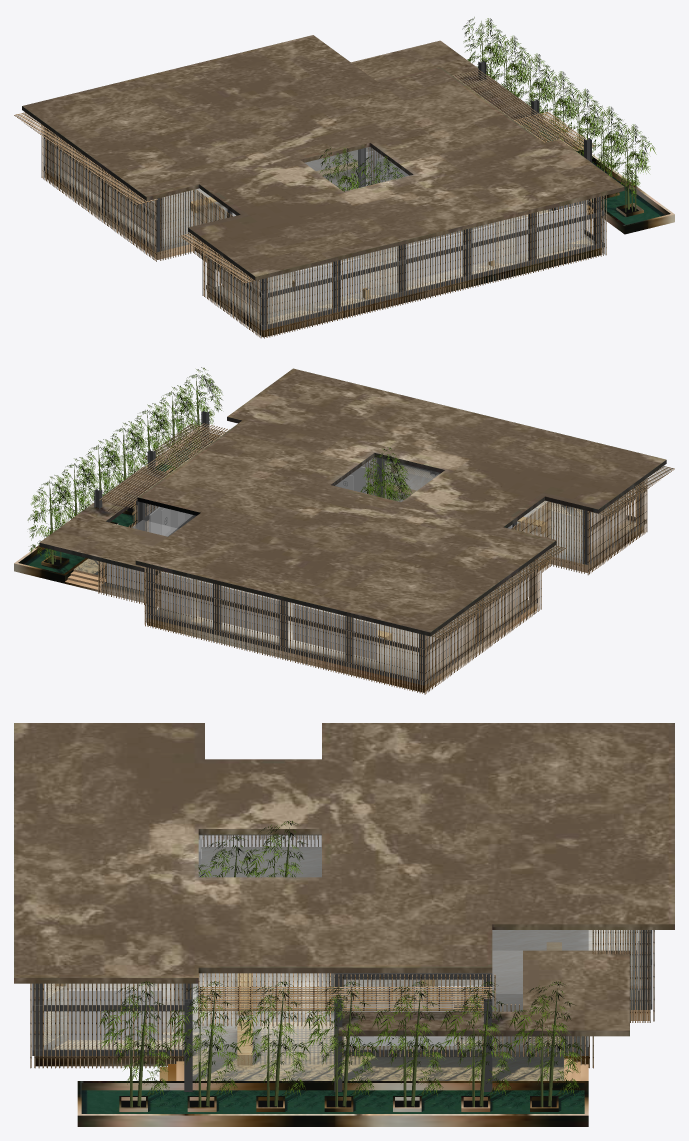
3 renders of one model, top to bottom at view 1: azimuth 30°, elevation 25°; view 2: azimuth 150°, elevation 25°; view 3: azimuth 270°, elevation 25°, orthographic. The views are drawn at different scales.
Parts seen in each view (by area): view 1: G-Object.002, C-组件#1, 地板, 墙.004, 横梁, 地板.001, G-Object.017, G-Object.040, G-Object.038, G-Object.001, G-Object.028, G-Object.034 (+5 smaller); view 2: G-Object.002, C-组件#1, 地板, 墙.004, 横梁, 地板.001, G-Object.030, G-Object.017, G-Object.034, G-Object.040, G-Object.038, G-Object.032 (+5 smaller); view 3: G-Object.002, 地板, C-组件#1, G-Object.017, G-Object.001, 墙.004, 地板.001, 横梁, G-Object.032, G-Object.040, G-Object.034, G-Object.028 (+13 smaller).
Part boxes in pixels (bbox=[...]): G-Object.002: bbox=[22, 35, 624, 280]; C-组件#1: bbox=[14, 60, 606, 338]; 地板: bbox=[45, 147, 602, 337]; 墙.004: bbox=[54, 134, 587, 310]; 横梁: bbox=[44, 135, 604, 330]; 地板.001: bbox=[305, 147, 408, 191]; G-Object.017: bbox=[540, 118, 674, 234]; G-Object.040: bbox=[607, 123, 656, 198]; G-Object.038: bbox=[582, 105, 631, 176]; G-Object.001: bbox=[521, 123, 665, 224]; G-Object.028: bbox=[485, 35, 534, 94]; G-Object.034: bbox=[534, 70, 583, 141]; G-Object.002: bbox=[39, 368, 666, 636]; C-组件#1: bbox=[94, 410, 674, 694]; 地板: bbox=[64, 458, 643, 692]; 墙.004: bbox=[107, 462, 625, 670]; 横梁: bbox=[136, 457, 646, 685]; 地板.001: bbox=[335, 457, 440, 501]; G-Object.030: bbox=[27, 475, 76, 562]; G-Object.017: bbox=[14, 430, 219, 583]; G-Object.034: bbox=[101, 421, 149, 494]; G-Object.040: bbox=[175, 367, 222, 453]; G-Object.038: bbox=[150, 385, 197, 472]; G-Object.032: bbox=[77, 439, 124, 512]; G-Object.002: bbox=[14, 723, 674, 1051]; 地板: bbox=[35, 834, 649, 1080]; C-组件#1: bbox=[30, 835, 654, 1091]; G-Object.017: bbox=[77, 1081, 588, 1126]; G-Object.001: bbox=[81, 1090, 584, 1113]; 墙.004: bbox=[44, 835, 639, 1046]; 地板.001: bbox=[198, 835, 321, 877]; 横梁: bbox=[32, 930, 652, 1055]; G-Object.032: bbox=[372, 981, 446, 1097]; G-Object.040: bbox=[98, 981, 173, 1097]; G-Object.034: bbox=[303, 981, 378, 1098]; G-Object.028: bbox=[440, 981, 515, 1097].
Bounding box in the file's own units: 36 × 6.82 × 32.2.
Materials: 42 (32 with a texture image).
